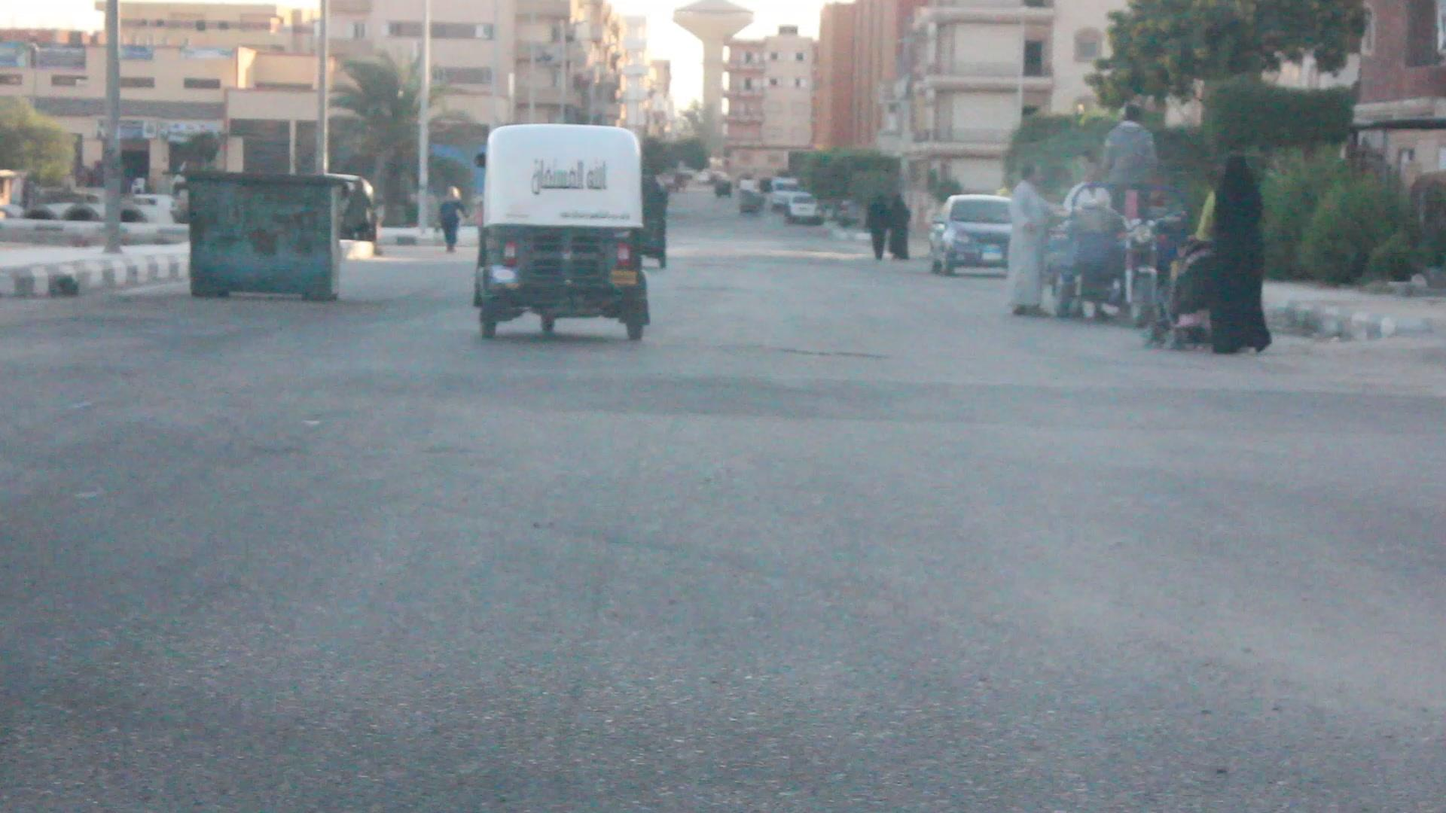Bump: (0, 354, 1446, 461)
